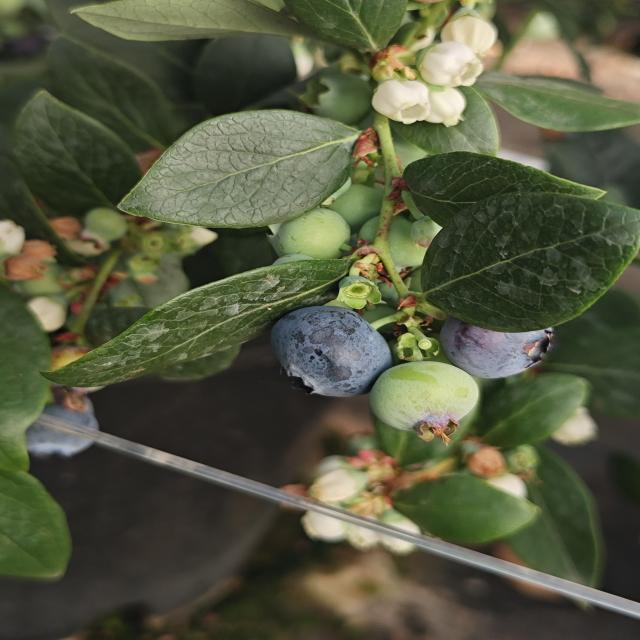ripe: (268, 304, 394, 399), (0, 377, 112, 469), (437, 315, 557, 381)
